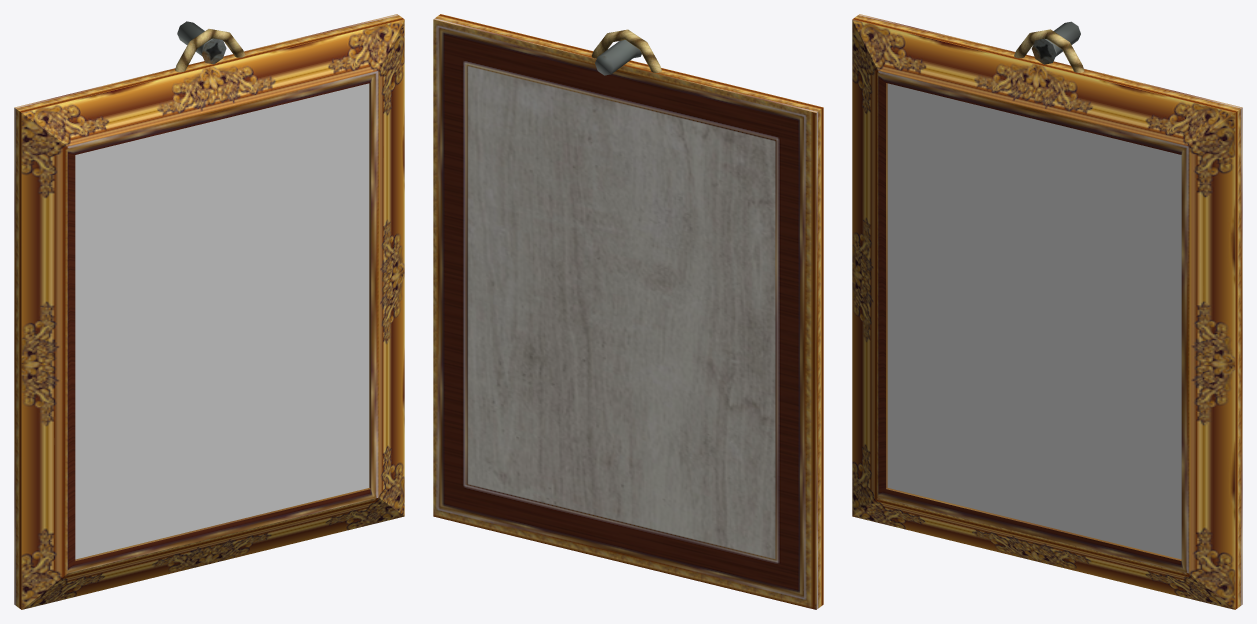
File: frame-03.fbx
3 renders of one model, left to right at view 1: azimuth 30°, elevation 25°; view 2: azimuth 150°, elevation 25°; view 3: azimuth 330°, elevation 25°, orthographic.
Visible parts, largest first — view 1: Plane.006, Plane.016; view 2: Plane.016; view 3: Plane.006, Plane.016.
Part boxes in pixels (<box>): Plane.006: <box>75,83,369,559</box>; Plane.016: <box>14,14,404,609</box>; Plane.016: <box>433,14,823,609</box>; Plane.006: <box>887,83,1181,559</box>; Plane.016: <box>852,14,1242,609</box>.
Size of the model in its own units: 0.8945 by 1.18 by 0.1502.
